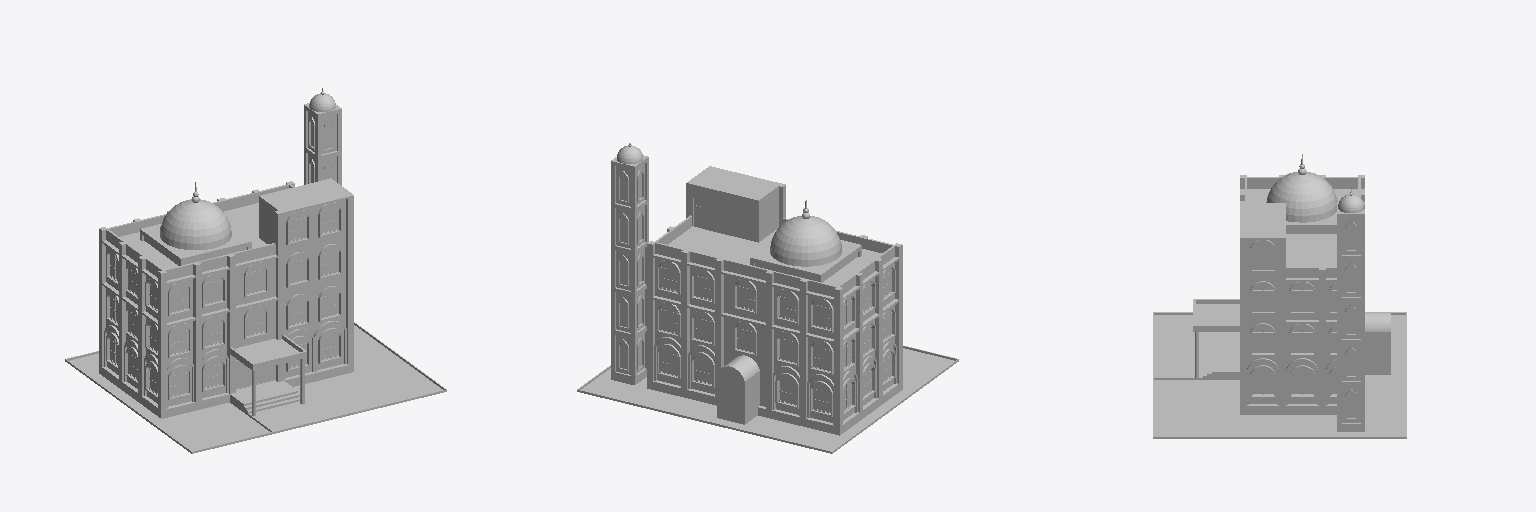
The model's file is building3.obj.
3 renders of one model, left to right at view 1: azimuth 30°, elevation 25°; view 2: azimuth 150°, elevation 25°; view 3: azimuth 270°, elevation 25°, orthographic.
Visible parts, largest first — view 1: WALL, WINDOW, LAND, MINAR, ROOF1, SHADE, FLOOR, ROOF2, DOOR; view 2: WALL, WINDOW, MINAR, ROOF1, LAND, FLOOR; view 3: LAND, MINAR, WALL, WINDOW, ROOF1, SHADE, FLOOR, ROOF2.
Boxes of the visible parts, box(x1,y1,x2,y2) form: WALL: box(99, 181, 353, 410); WINDOW: box(106, 244, 341, 400); LAND: box(65, 322, 446, 453); MINAR: box(140, 88, 341, 265); ROOF1: box(120, 178, 353, 269); SHADE: box(230, 335, 326, 431); FLOOR: box(99, 364, 353, 418); ROOF2: box(286, 202, 341, 244); DOOR: box(236, 359, 275, 389); WALL: box(647, 215, 902, 426); WINDOW: box(657, 260, 895, 416); MINAR: box(611, 143, 861, 384); ROOF1: box(668, 166, 881, 285); LAND: box(577, 346, 958, 453); FLOOR: box(647, 380, 902, 435); LAND: box(1153, 312, 1406, 438); MINAR: box(1261, 154, 1364, 431); WALL: box(1240, 175, 1390, 405); WINDOW: box(1250, 281, 1336, 397); ROOF1: box(1240, 189, 1357, 279); SHADE: box(1154, 299, 1239, 379); FLOOR: box(1240, 366, 1390, 414); ROOF2: box(1250, 240, 1275, 271).
Bounding box in the file's own units: 762 × 687 × 656.